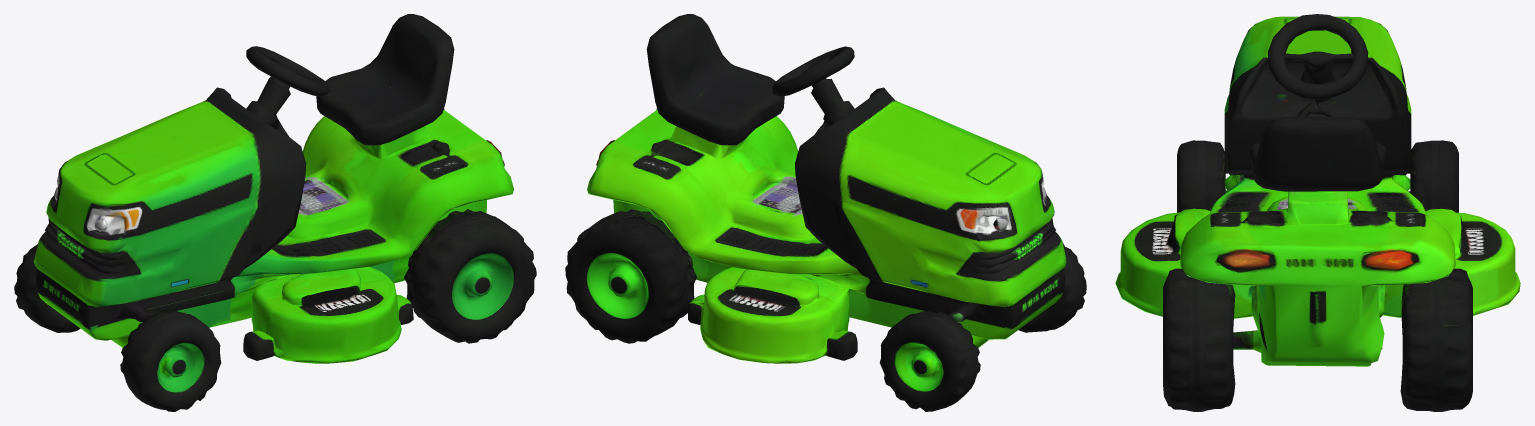
The model's file is riding_mower.glb.
3 renders of one model, left to right at view 1: azimuth 30°, elevation 25°; view 2: azimuth 150°, elevation 25°; view 3: azimuth 270°, elevation 25°, orthographic. The views are drawn at different scales.
Bounding box in the file's own units: 1.9 × 1.23 × 1.47.
Materials: 1 (1 with a texture image).
